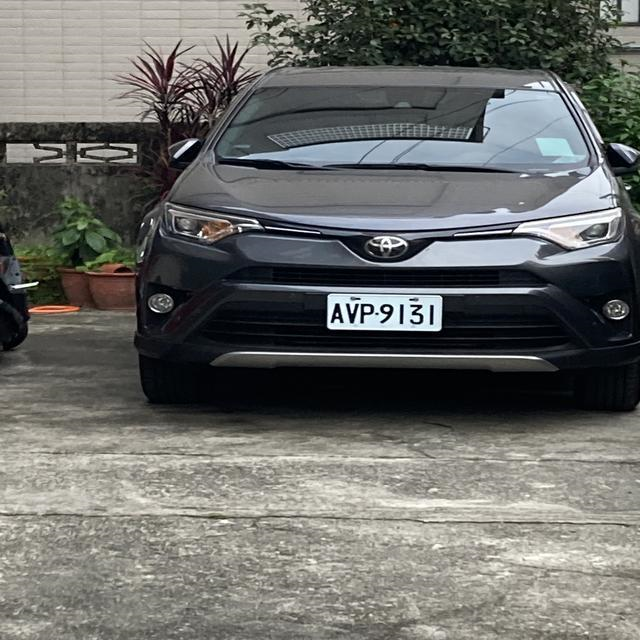license: (319, 289, 443, 333)
